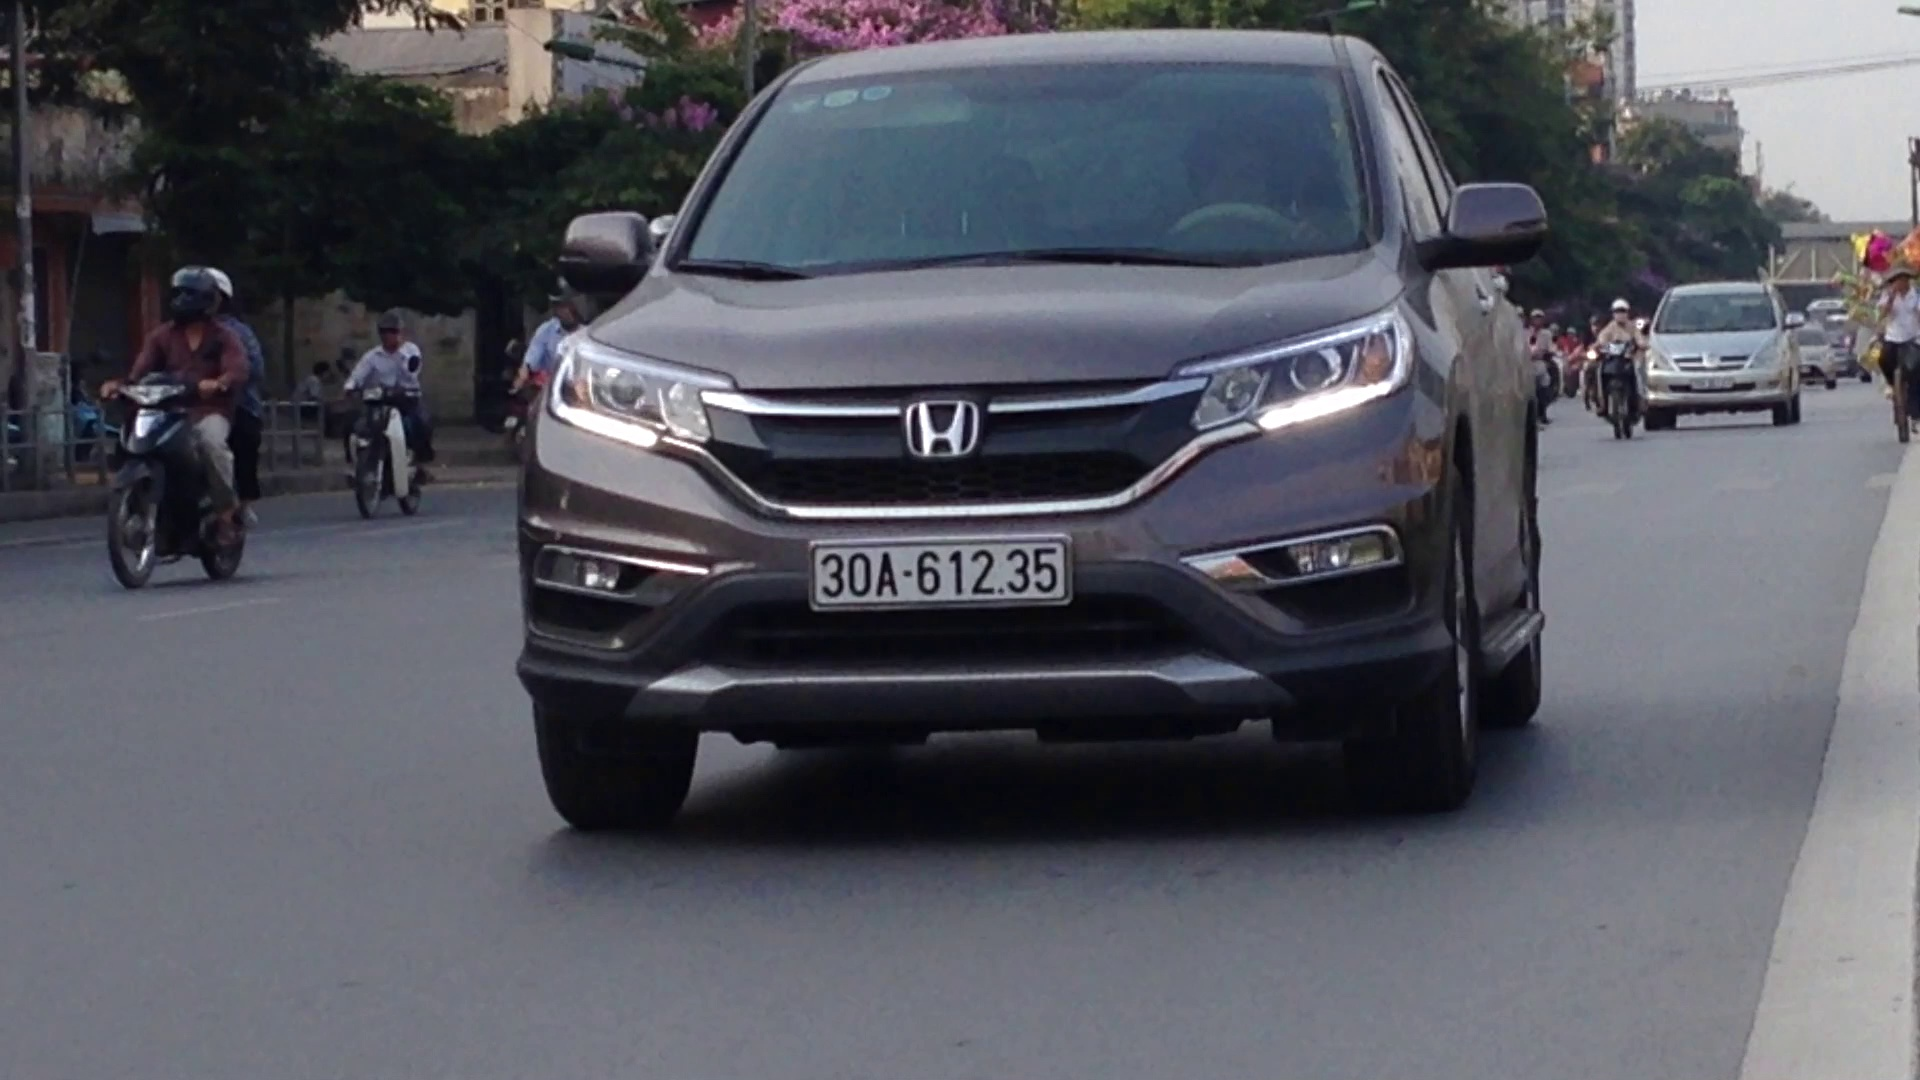vehicle-plate: (804, 532, 1077, 612)
